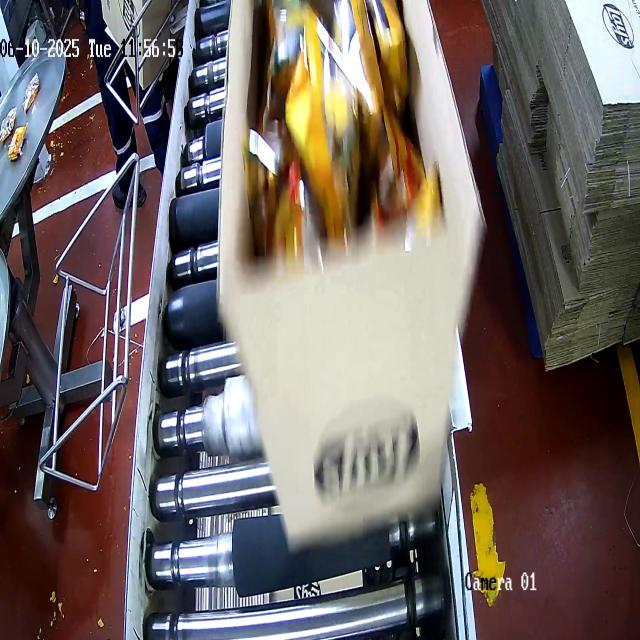FRENCH_CHEESE: (255, 0, 426, 251)
